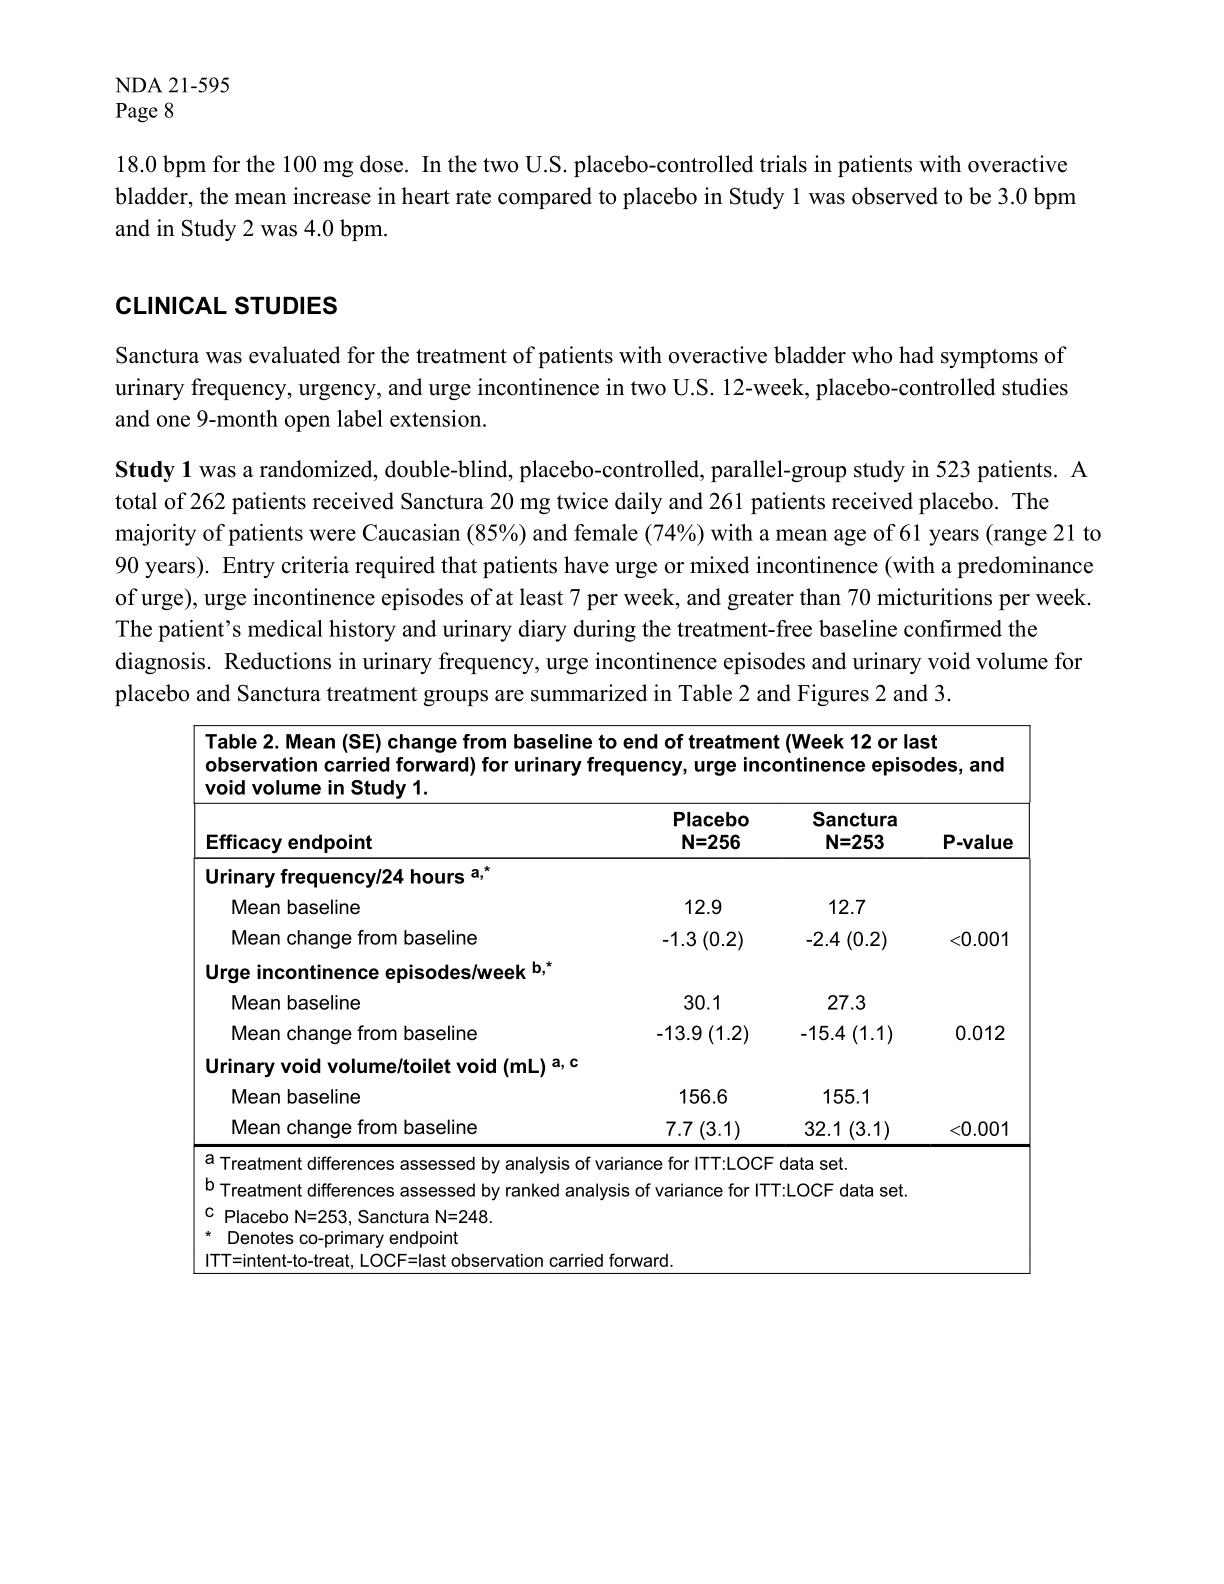partial_lined_merged_cells: (190, 723, 1032, 1275)
